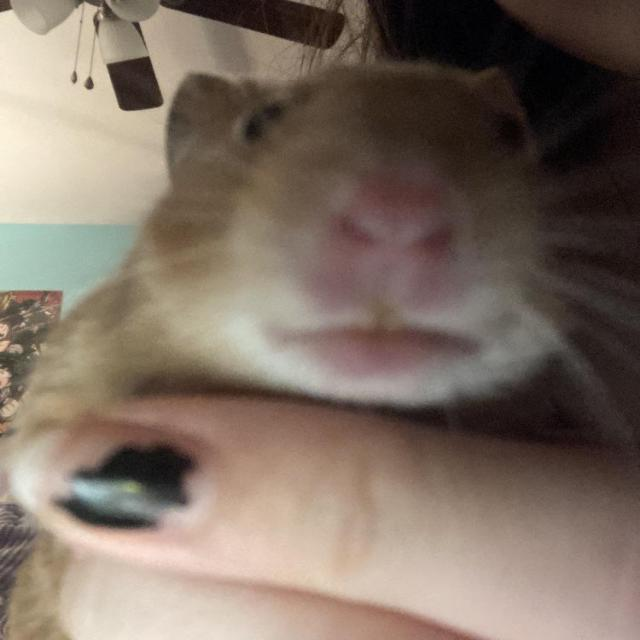hamster: (116, 58, 600, 409)
